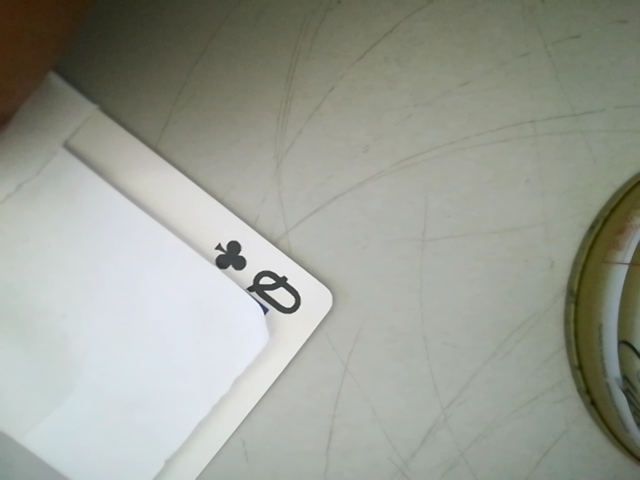mh q: (196, 228, 314, 322)
